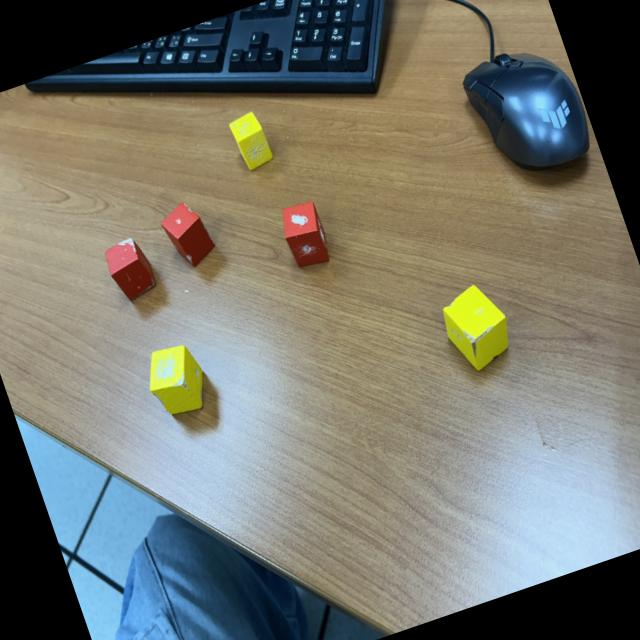broken: (431, 272, 521, 378), (136, 333, 216, 422), (154, 193, 221, 274), (274, 194, 336, 273), (97, 232, 163, 306), (225, 108, 277, 172)
